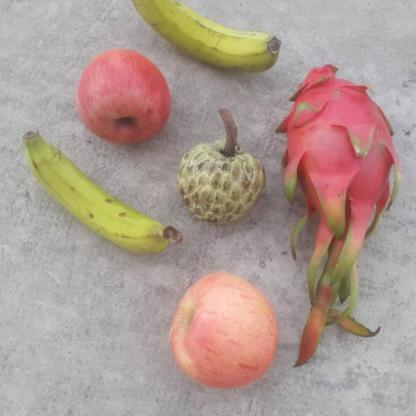annona: (173, 136, 264, 227)
apple: (164, 268, 282, 390), (72, 45, 173, 147)
banana: (23, 130, 172, 250), (117, 0, 281, 77)
pitaya: (272, 63, 406, 242)
